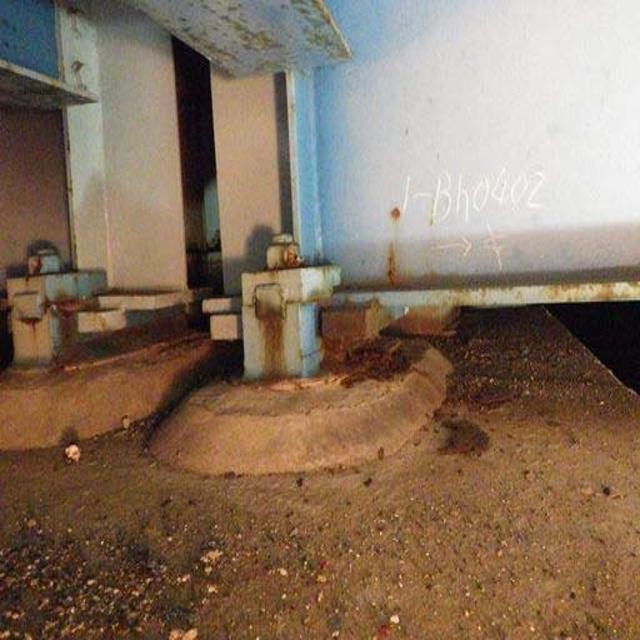corrosion: (27, 284, 487, 393)
